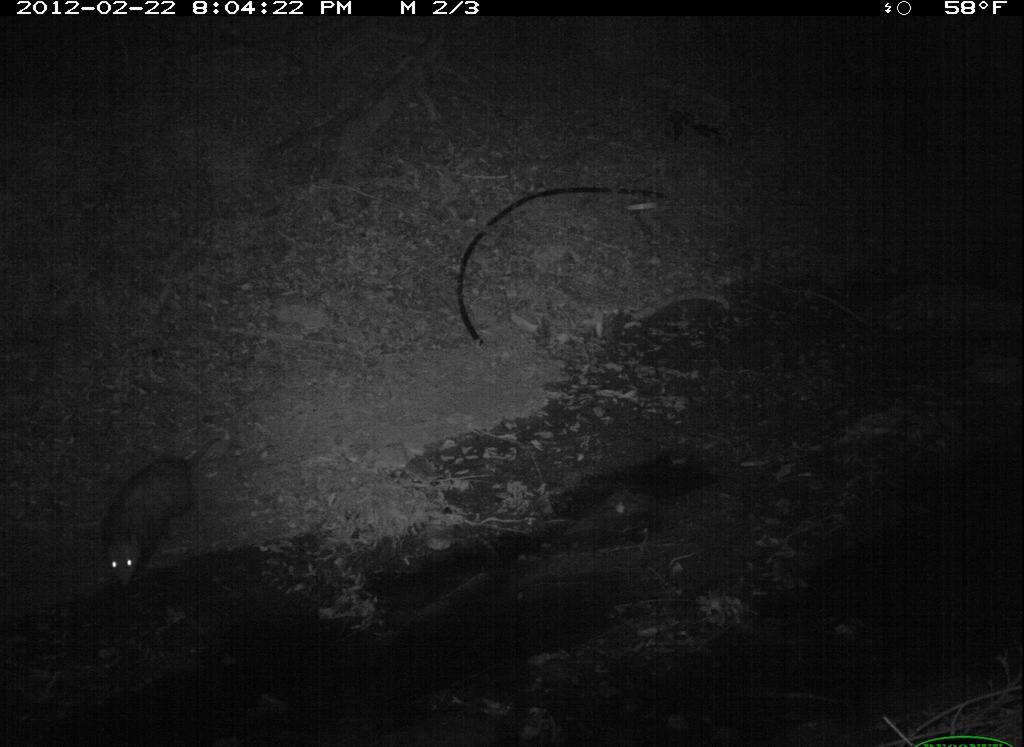opossum: (85, 419, 236, 596)
